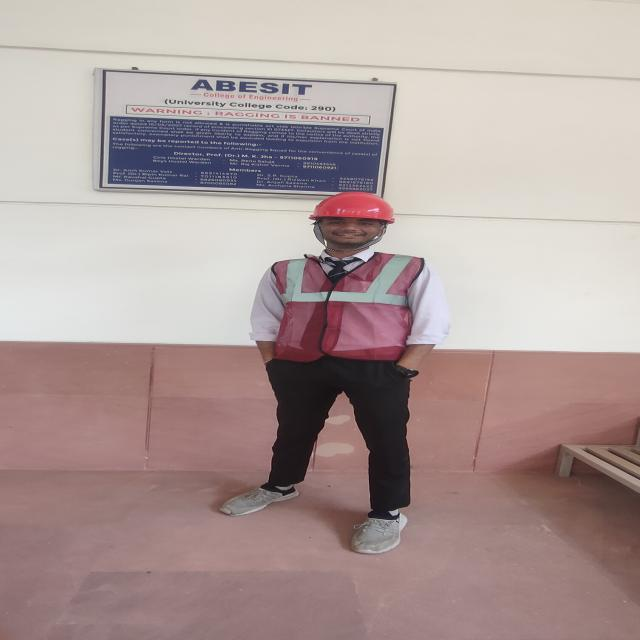safe: (220, 192, 444, 553)
